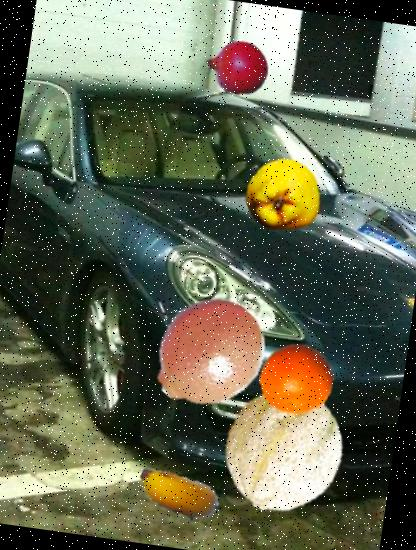Banana: (130, 448, 224, 542)
Cantaloupe: (213, 382, 353, 522)
Grapefruit: (254, 336, 340, 422)
Pomegranate: (201, 32, 273, 104)
Quince: (240, 152, 326, 240)
Tangelo: (143, 288, 274, 420)
